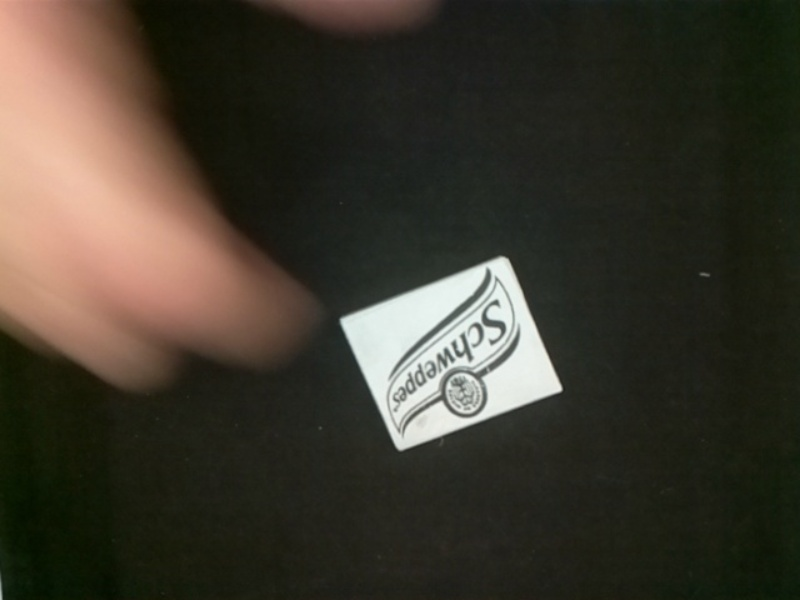schweppes: (353, 258, 544, 458)
